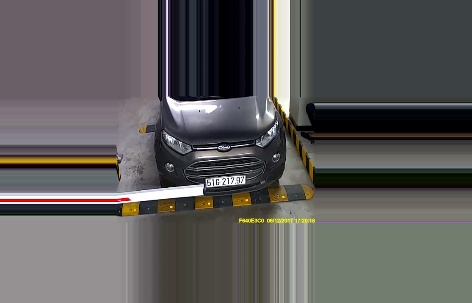plate: (206, 174, 246, 188)
